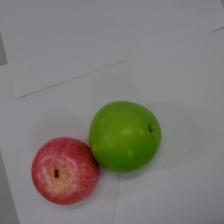green: (91, 97, 163, 169)
red: (31, 138, 100, 204)
